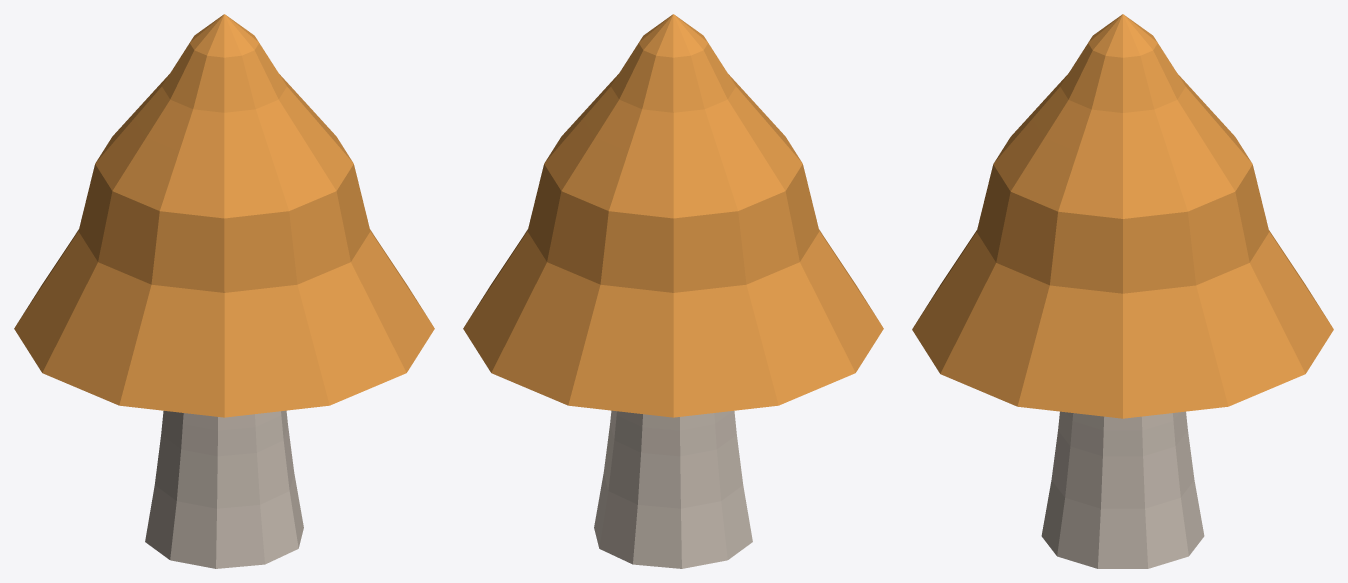
File: sari_mantar.fbx
3 views of the same model, side by side, from view 1: azimuth 30°, elevation 25°; view 2: azimuth 150°, elevation 25°; view 3: azimuth 270°, elevation 25° (orthographic).
Parts seen in each view (by area): view 1: Cylinder.004, Cylinder; view 2: Cylinder.004, Cylinder; view 3: Cylinder.004, Cylinder.
Boxes of the visible parts, x1,y1,x2,y2 form: Cylinder.004: (14,14,434,417); Cylinder: (145,410,303,568); Cylinder.004: (463,14,883,417); Cylinder: (594,410,752,568); Cylinder.004: (912,14,1333,418); Cylinder: (1041,411,1204,568).
Bounding box in the file's own units: 745 × 1018 × 745.
